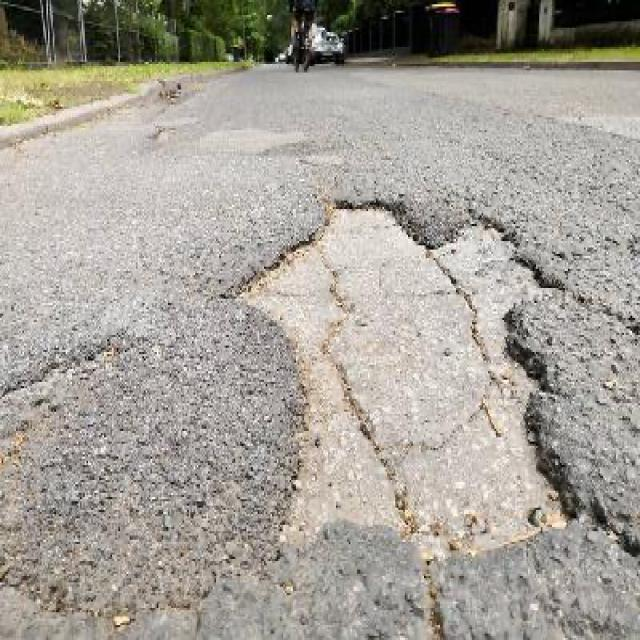pothole: (226, 192, 589, 559)
